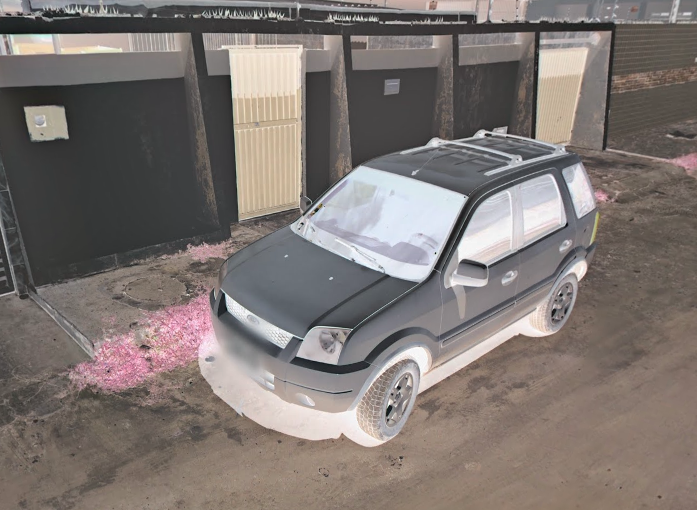car: (205, 126, 602, 444)
